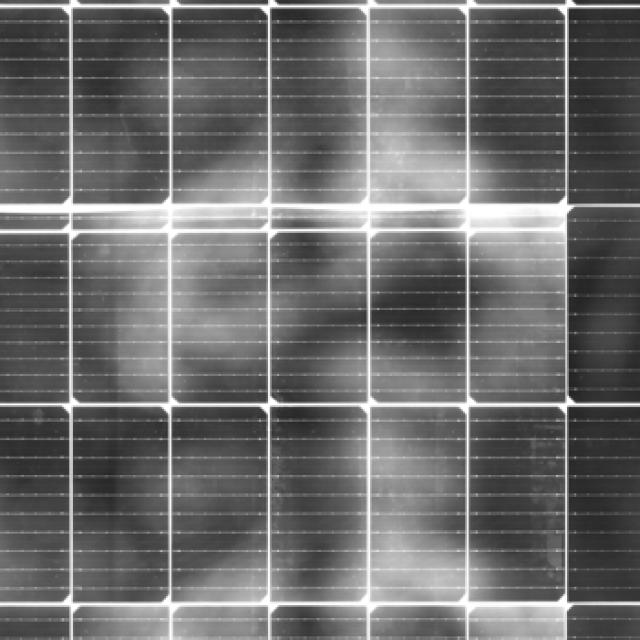MISALIGNMENT: (12, 192, 571, 250)
